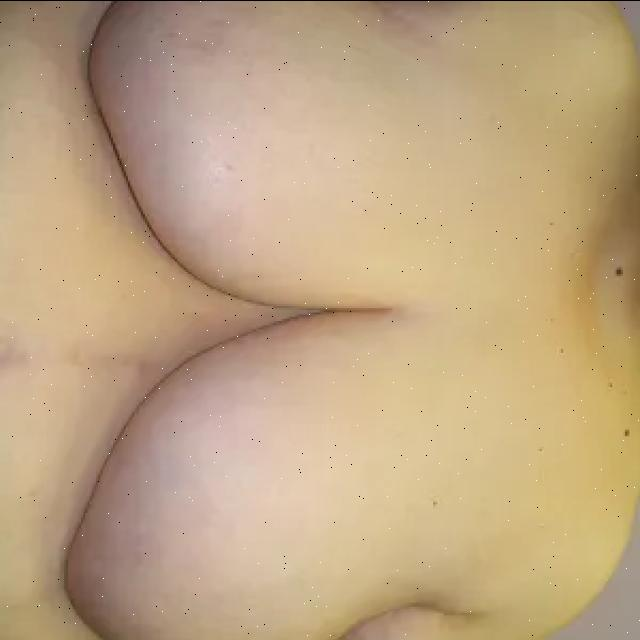Seno ileso: (41, 313, 434, 640), (62, 0, 432, 311)
